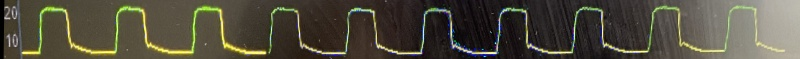normal_pressure: (16, 0, 800, 59)
